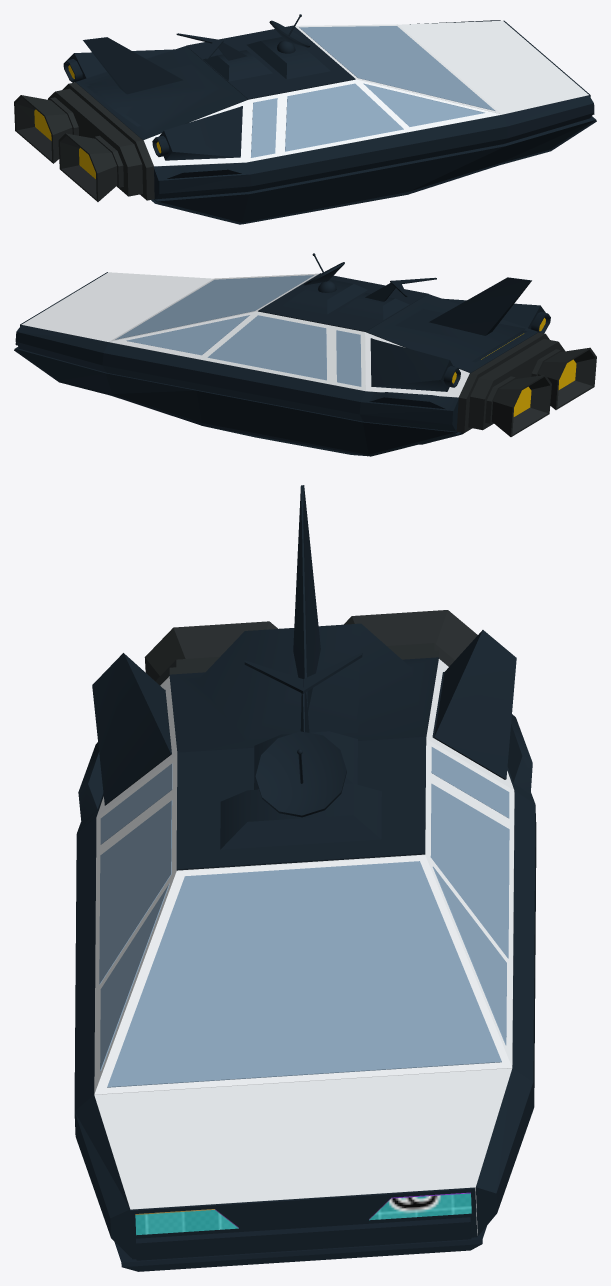
Rendered from car.glb.
3 views of the same model, one above another, from view 1: azimuth 30°, elevation 25°; view 2: azimuth 150°, elevation 25°; view 3: azimuth 270°, elevation 25° (orthographic). The views are drawn at different scales.
Parts seen in each view (by area): view 1: Car; view 2: Car; view 3: Car.
Part boxes in pixels (x1=…): Car: x1=14, y1=14, x2=596, y2=224; Car: x1=14, y1=253, x2=596, y2=456; Car: x1=74, y1=485, x2=536, y2=1271.
Bounding box in the file's own units: 2.1 × 0.8171 × 0.8458.
7 materials, 1 textured.
